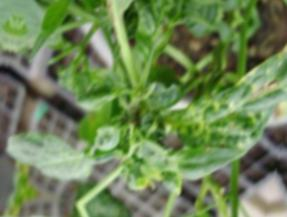Tomato leaf mosaic virus: (164, 18, 287, 170), (64, 57, 133, 118), (118, 0, 176, 66)
